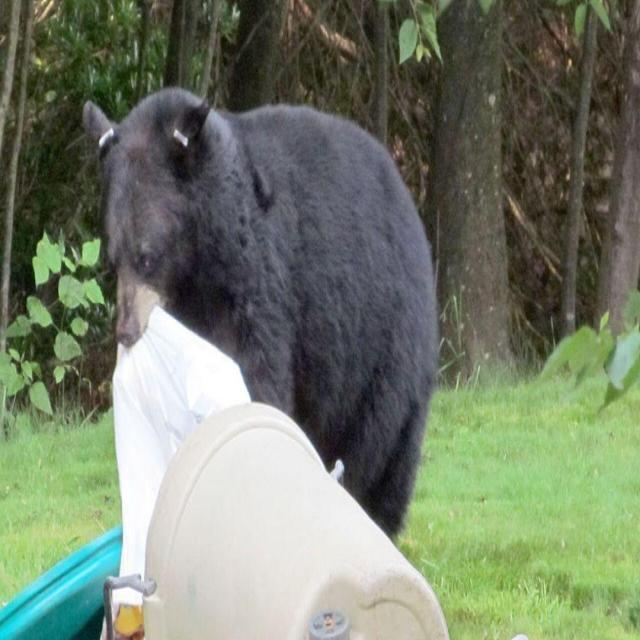Bear: (80, 88, 440, 541)
